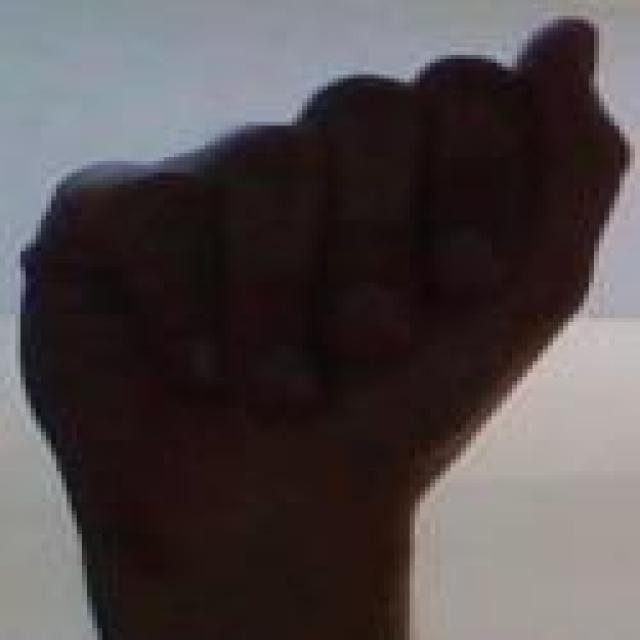A: (0, 14, 640, 618)
